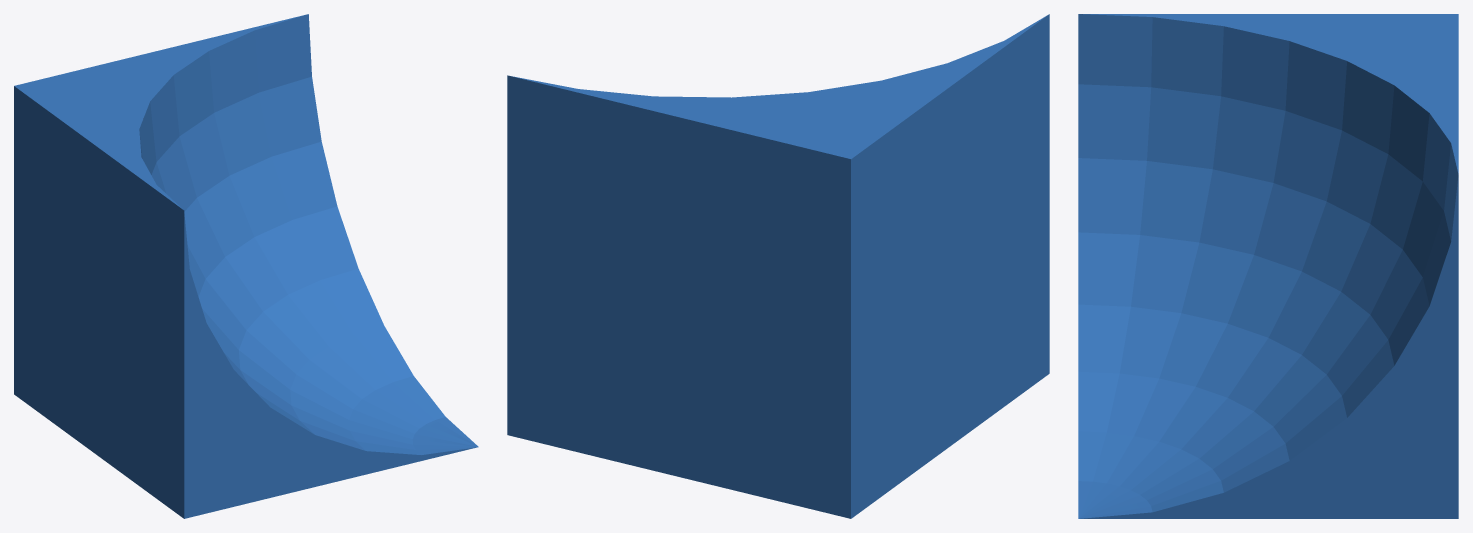
Rendered from r4c2_body_blue.gltf.
3 views of the same model, side by side, from view 1: azimuth 30°, elevation 25°; view 2: azimuth 150°, elevation 25°; view 3: azimuth 270°, elevation 25° (orthographic). The views are drawn at different scales.
Visible parts, largest first — view 1: r4c2_body_blue; view 2: r4c2_body_blue; view 3: r4c2_body_blue.
Part boxes in pixels (x1=…): r4c2_body_blue: x1=14, y1=14, x2=478, y2=518; r4c2_body_blue: x1=507, y1=14, x2=1049, y2=518; r4c2_body_blue: x1=1078, y1=14, x2=1458, y2=518.
Size of what is drawn, in the model's own units: 2 by 2 by 2.
Materials: 1 (1 with a texture image).
